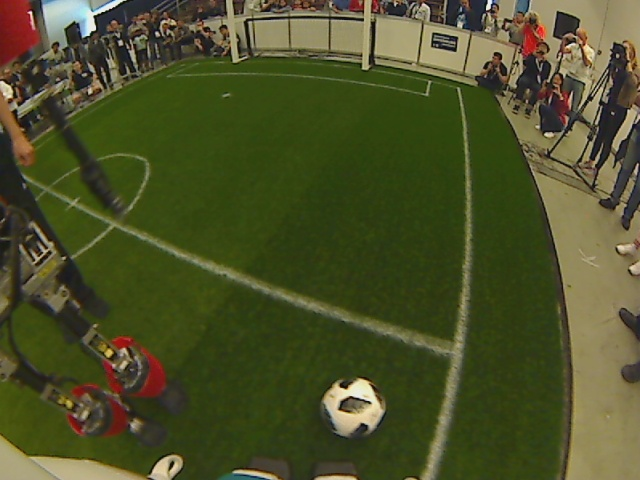ball: (318, 372, 391, 441)
